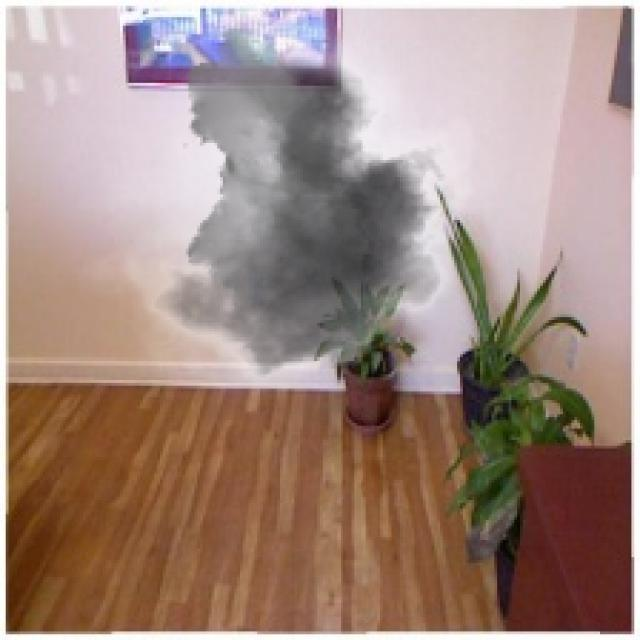Smoke: (74, 22, 497, 408)
